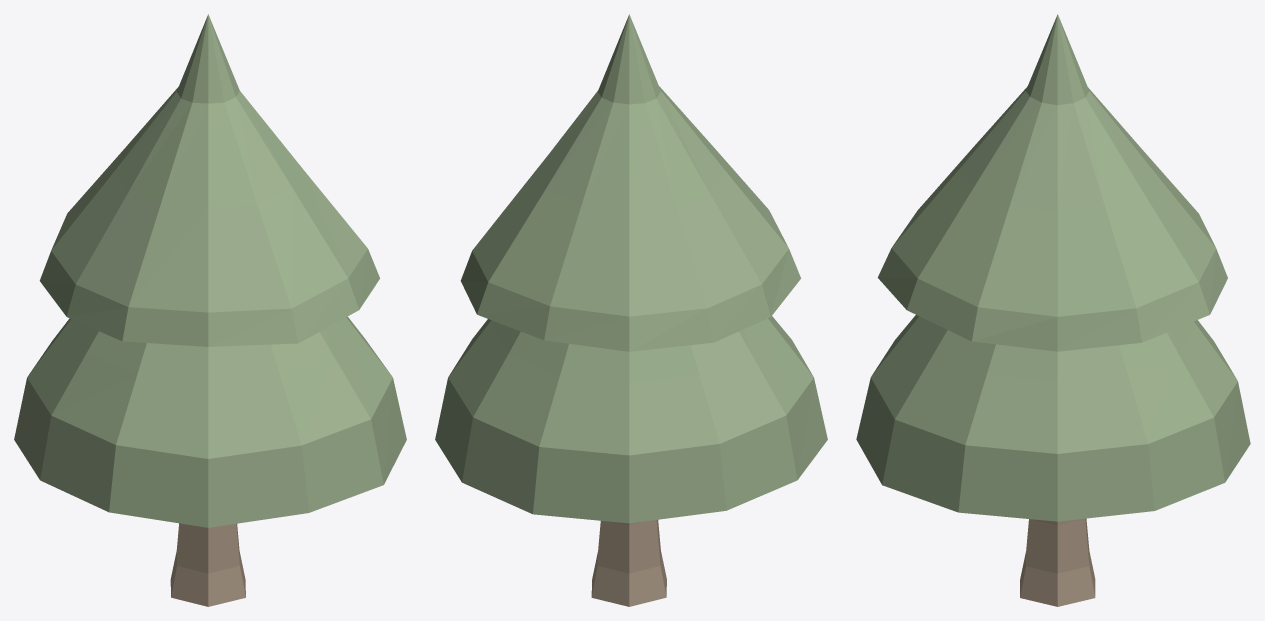
The model's file is young-pine-0d7695.glb.
The picture shows the model from 3 angles, left to right: view 1: azimuth 30°, elevation 25°; view 2: azimuth 150°, elevation 25°; view 3: azimuth 270°, elevation 25°; orthographic projection.
Parts seen in each view (by area): view 1: young-pine-mesh; view 2: young-pine-mesh; view 3: young-pine-mesh.
Boxes of the visible parts, x1=… form: young-pine-mesh: x1=14, y1=14, x2=406, y2=606; young-pine-mesh: x1=435, y1=14, x2=827, y2=606; young-pine-mesh: x1=856, y1=14, x2=1250, y2=606.
Bounding box in the file's own units: 1.84 × 3 × 1.87.
